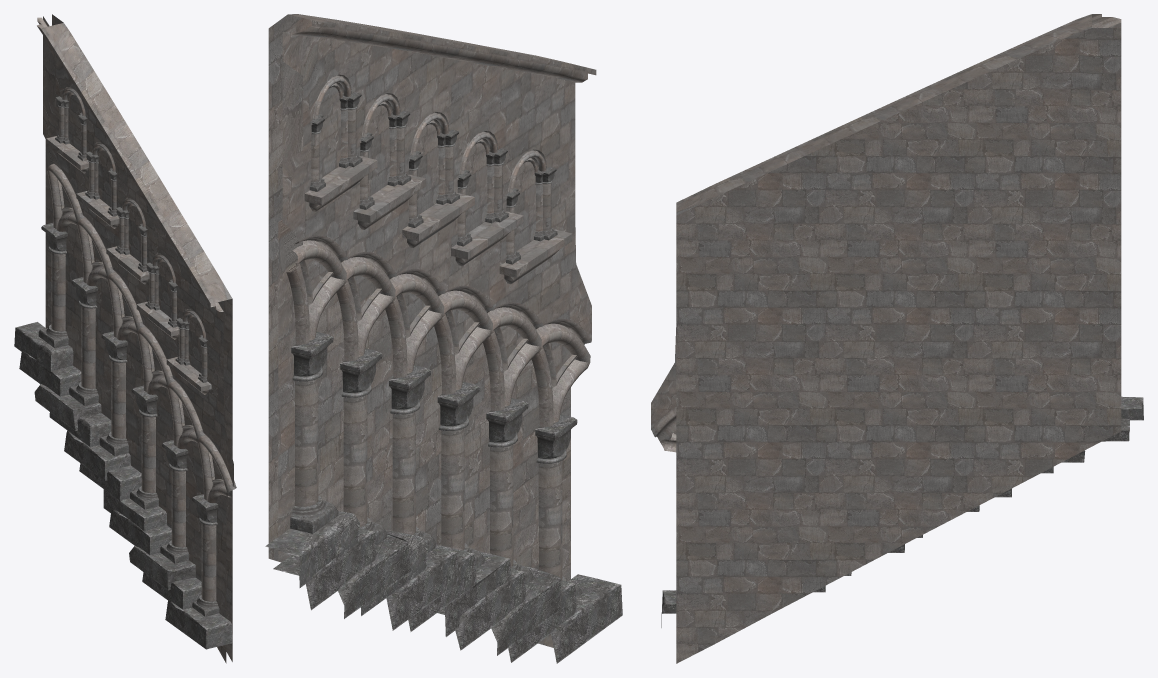
3 renders of one model, left to right at view 1: azimuth 30°, elevation 25°; view 2: azimuth 150°, elevation 25°; view 3: azimuth 270°, elevation 25°, orthographic. The views are drawn at different scales.
Parts seen in each view (by area): view 1: SM_DungeonStairwayWallR_LOD0; view 2: SM_DungeonStairwayWallR_LOD0; view 3: SM_DungeonStairwayWallR_LOD0.
Boxes of the visible parts, x1,y1,x2,y2 form: SM_DungeonStairwayWallR_LOD0: (14,14,236,663); SM_DungeonStairwayWallR_LOD0: (265,14,622,663); SM_DungeonStairwayWallR_LOD0: (651,14,1143,663).
Bounding box in the file's own units: 0.6276 × 9.46 × 6.64.
2 materials, 2 textured.
